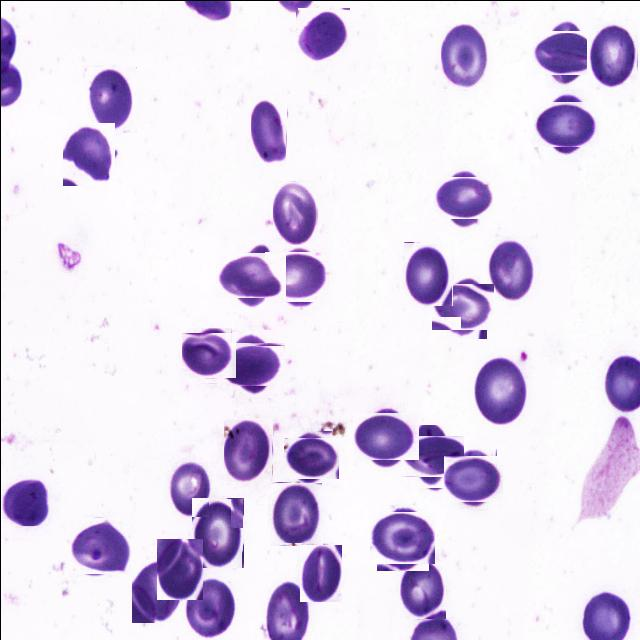red blood cell: (472, 354, 527, 426), (190, 497, 242, 567), (586, 20, 637, 89), (372, 508, 432, 566), (71, 516, 129, 575), (537, 24, 595, 82), (268, 248, 326, 306), (220, 245, 278, 303), (270, 481, 322, 545), (356, 407, 414, 464), (86, 66, 136, 132), (62, 122, 114, 185), (402, 241, 452, 305), (438, 24, 486, 90), (223, 418, 272, 482), (131, 560, 180, 624), (222, 335, 278, 391), (537, 95, 593, 151), (486, 236, 534, 300), (184, 577, 236, 635), (296, 8, 350, 62), (436, 280, 490, 334), (272, 180, 317, 244), (156, 538, 202, 599), (405, 429, 457, 482), (446, 452, 499, 504), (0, 474, 52, 526), (250, 94, 286, 168), (399, 561, 445, 618), (438, 172, 488, 222), (184, 330, 234, 380), (166, 458, 208, 516), (299, 544, 341, 601), (286, 434, 334, 482)
